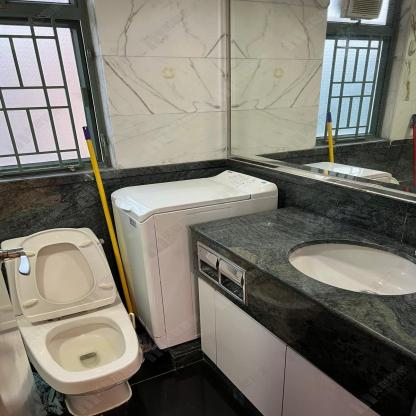Exhaust Fan: (340, 0, 383, 19)
Toilet: (0, 226, 144, 414)
Toilet Sink: (239, 223, 416, 337)
Washing Machine: (109, 170, 278, 348)
